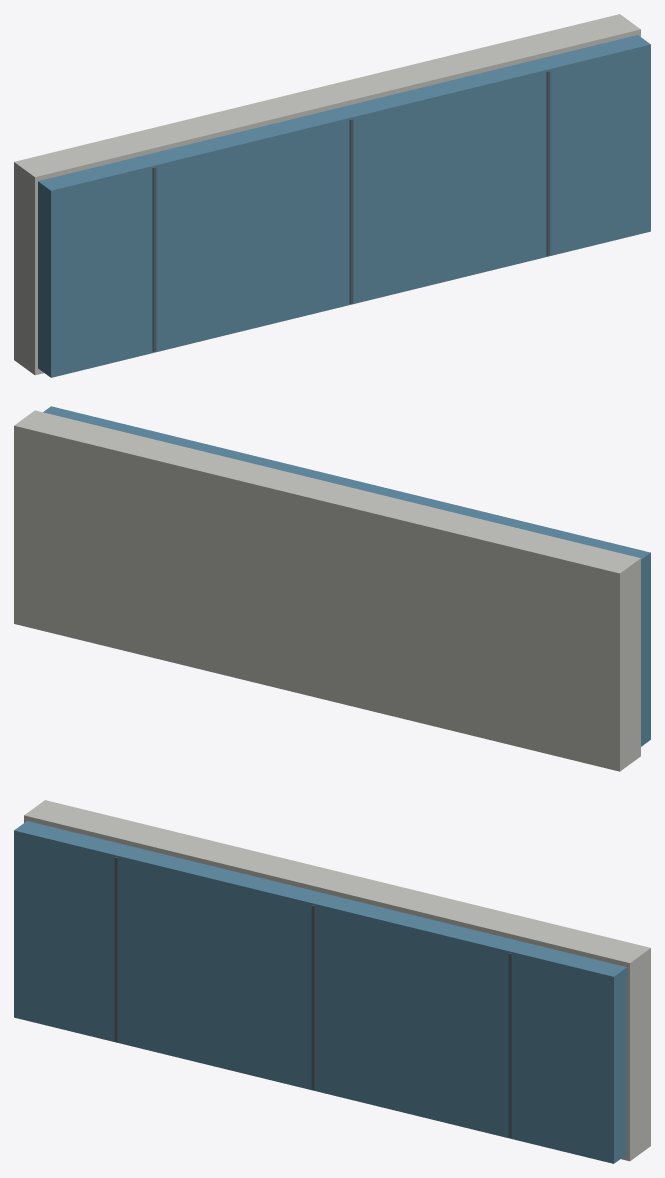
Rendered from american-football-stadium-kit-padded-field-wall-42da2273__22317.glb.
The picture shows the model from 3 angles, top to bottom: view 1: azimuth 30°, elevation 25°; view 2: azimuth 150°, elevation 25°; view 3: azimuth 330°, elevation 25°; orthographic projection.
Parts seen in each view (by area): view 1: padded-field-wall; view 2: padded-field-wall; view 3: padded-field-wall.
Boxes of the visible parts, x1,y1,x2,y2 form: padded-field-wall: (14, 14, 650, 377); padded-field-wall: (14, 406, 650, 771); padded-field-wall: (14, 800, 650, 1163).
Bounding box in the file's own units: 4 × 1.25 × 0.3989.
